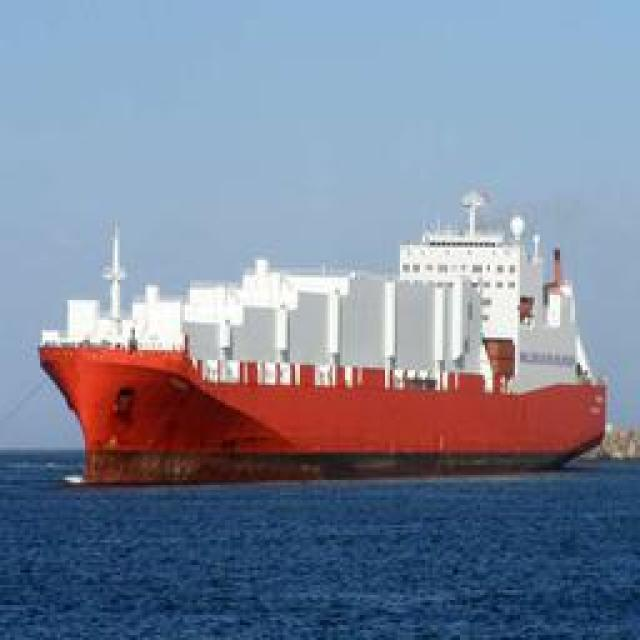ship2: (39, 192, 608, 491)
